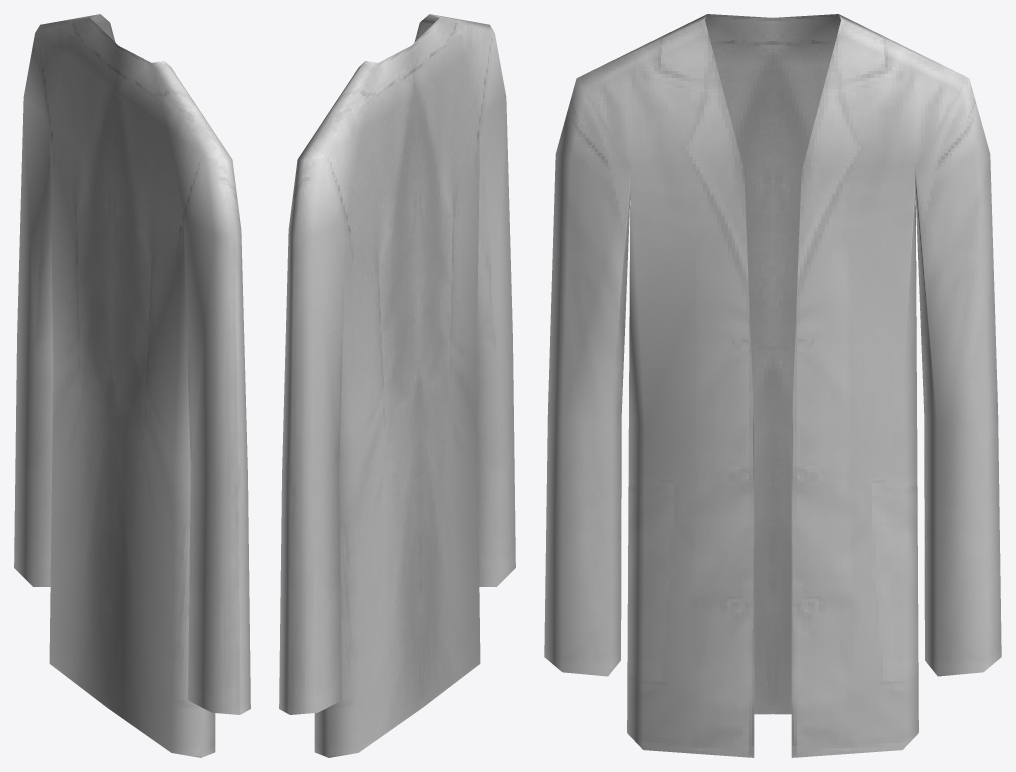
File: Shirt005.glb
3 views of the same model, side by side, from view 1: azimuth 30°, elevation 25°; view 2: azimuth 150°, elevation 25°; view 3: azimuth 270°, elevation 25° (orthographic). The views are drawn at different scales.
Visible parts, largest first — view 1: shirt.005; view 2: shirt.005; view 3: shirt.005.
Part boxes in pixels (x1,y1,x2,y2): shirt.005: (14,14,250,757); shirt.005: (279,14,515,757); shirt.005: (544,14,1001,757).
Size of the model in its own units: 0.075 by 0.9212 by 0.5277.
Materials: 1 (1 with a texture image).
